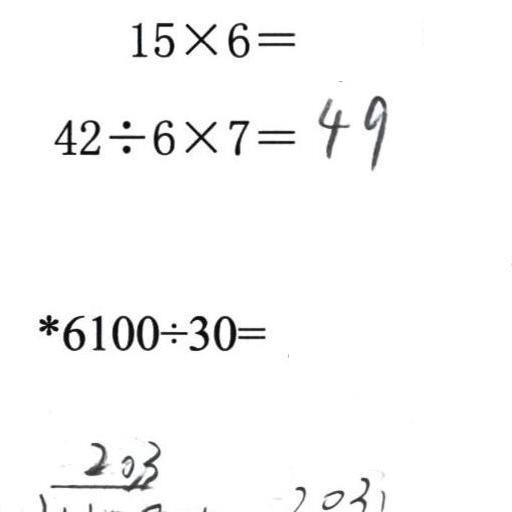ans: (312, 86, 389, 168)
